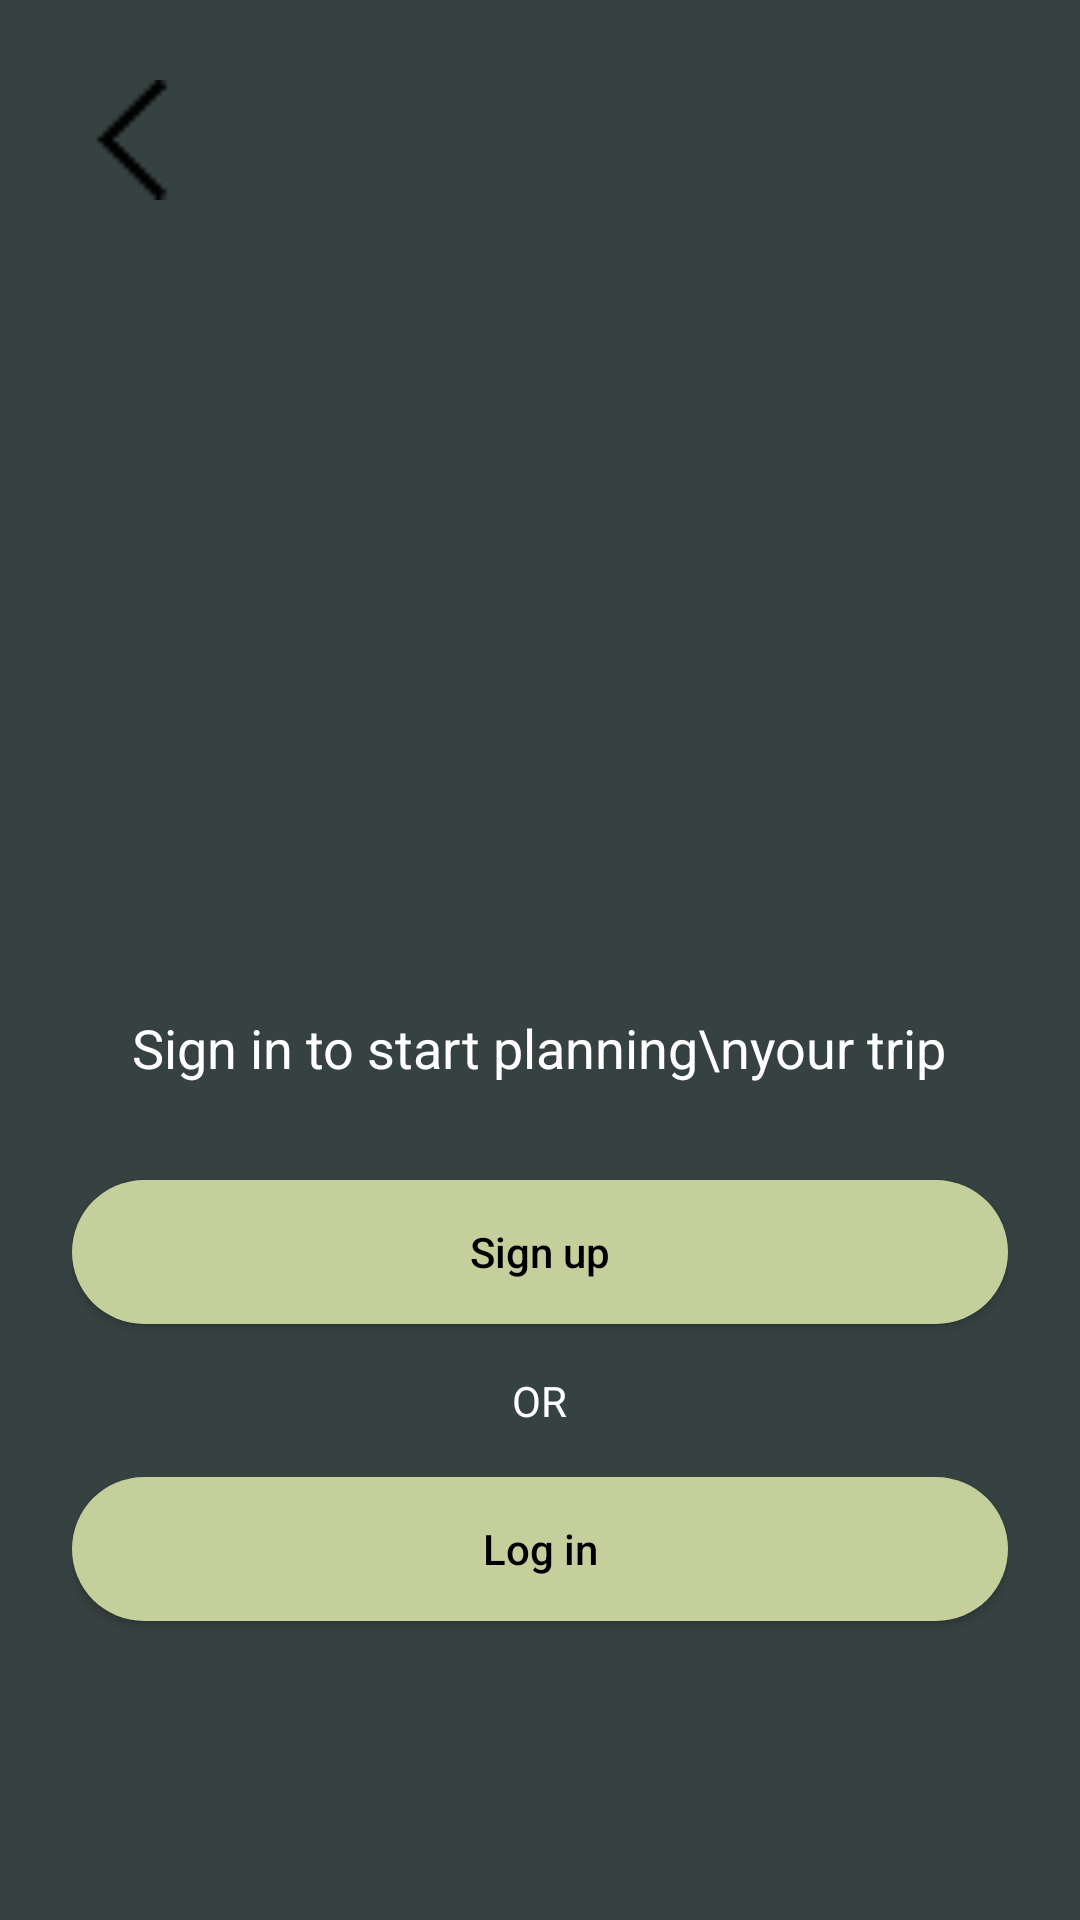

Icon click points for this 1080px×1920px phone screenshot, format (x=x, y=y):
Back: (x=131, y=140)
